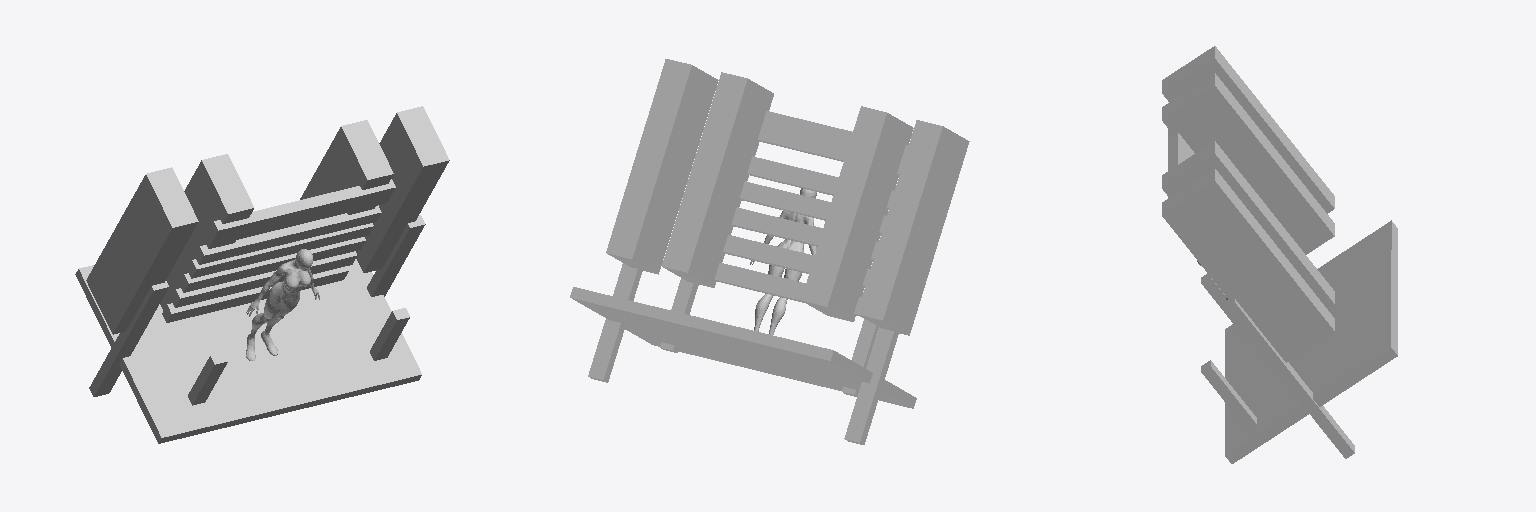
Rendered from female_6k_with_stand.obj.
The picture shows the model from 3 angles: view 1: azimuth 30°, elevation 25°; view 2: azimuth 150°, elevation 25°; view 3: azimuth 270°, elevation 25°; orthographic projection.
Visible parts, largest first — view 1: Object.9, Object.2, Object.5, Object.3, Object.7, Object.4, Object.1, Object.12, Object.14, Object.13, Object.11, Object.6 (+4 smaller); view 2: Object.2, Object.5, Object.3, Object.4, Object.9, Object.7, Object.14, Object.15, Object.10, Object.12, Object.11, Object.13 (+4 smaller); view 3: Object.9, Object.5, Object.3, Object.4, Object.2, Object.15, Object.16, Object.7, Object.8.
Boxes of the visible parts, box(x1,y1,x2,y2) form: Object.9: box(75, 259, 421, 443); Object.2: box(86, 167, 198, 334); Object.5: box(356, 106, 449, 272); Object.3: box(160, 154, 253, 310); Object.7: box(205, 179, 395, 245); Object.4: box(300, 120, 393, 214); Object.1: box(246, 249, 319, 360); Object.12: box(195, 205, 381, 264); Object.14: box(89, 281, 168, 396); Object.13: box(187, 223, 373, 278); Object.11: box(179, 237, 365, 292); Object.6: box(170, 251, 357, 307); Object.2: box(857, 120, 969, 335); Object.5: box(606, 59, 718, 274); Object.3: box(801, 106, 913, 321); Object.4: box(662, 72, 773, 287); Object.9: box(570, 287, 916, 408); Object.7: box(758, 111, 908, 174); Object.14: box(844, 327, 898, 444); Object.15: box(588, 263, 642, 382); Object.10: box(715, 263, 861, 316); Object.12: box(747, 156, 894, 207); Object.11: box(732, 207, 878, 259); Object.13: box(740, 181, 886, 233); Object.9: box(1225, 220, 1397, 463); Object.5: box(1162, 168, 1334, 362); Object.3: box(1162, 73, 1334, 254); Object.4: box(1162, 141, 1334, 308); Object.2: box(1162, 46, 1334, 213); Object.15: box(1226, 299, 1354, 458); Object.16: box(1201, 360, 1256, 429); Object.7: box(1168, 129, 1194, 197); Object.8: box(1201, 273, 1249, 340).
Size of the model in its own units: 155 by 146 by 111.